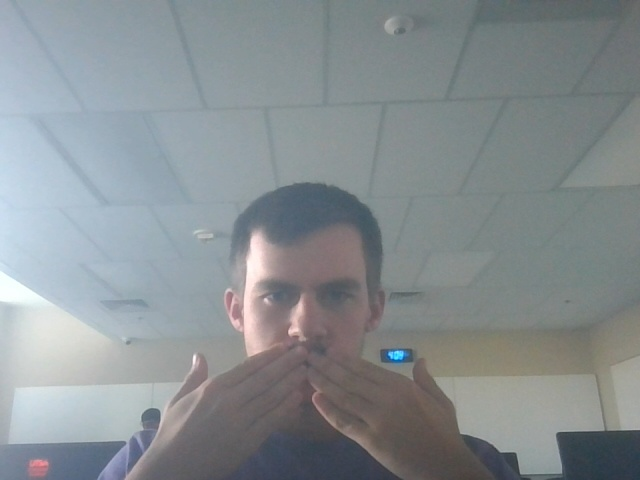thanks: (149, 331, 467, 476)
